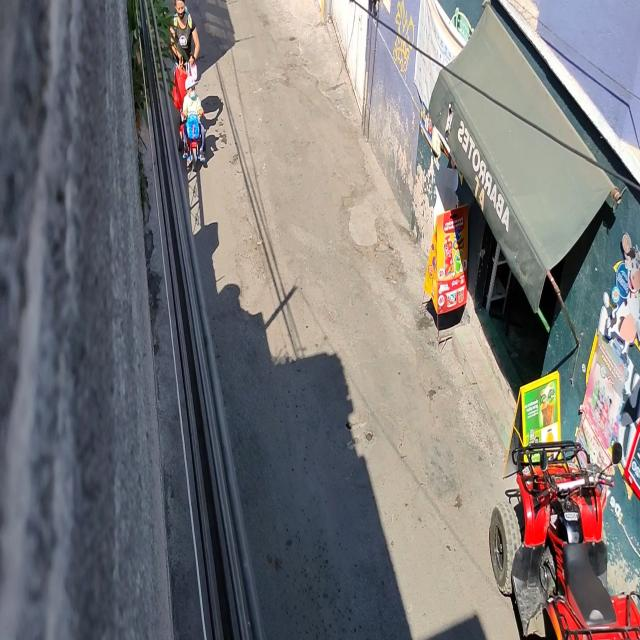adult: (168, 0, 200, 128), (182, 73, 206, 165)
